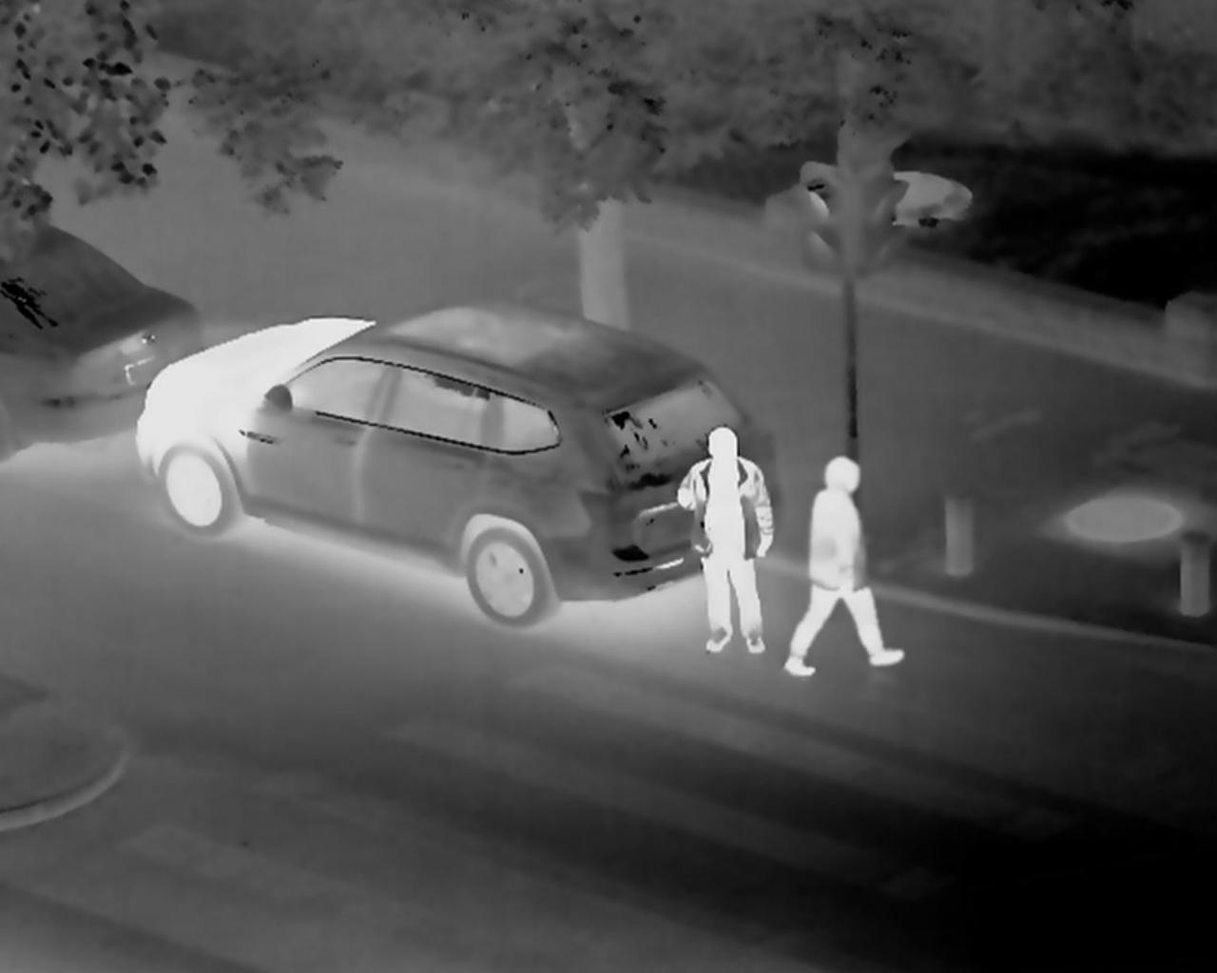person: (792, 443, 911, 682), (680, 430, 780, 648)
